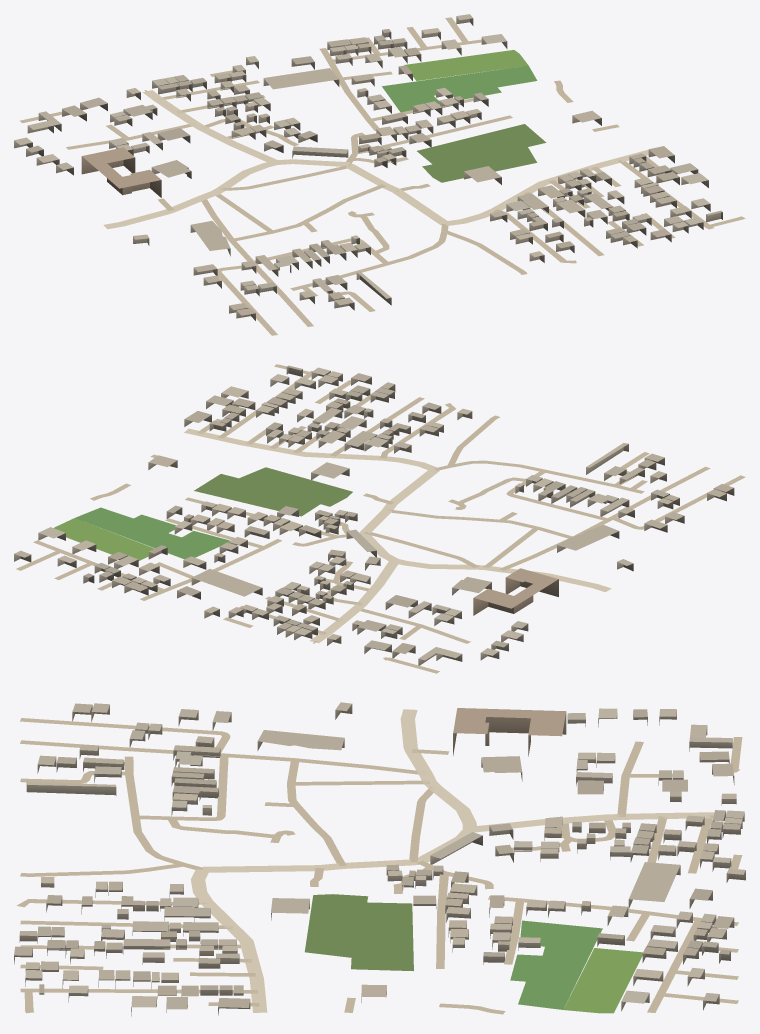
3 renders of one model, top to bottom at view 1: azimuth 30°, elevation 25°; view 2: azimuth 150°, elevation 25°; view 3: azimuth 270°, elevation 25°, orthographic. The views are drawn at different scales.
Visible parts, largest first — view 1: building, ground; view 2: building, ground; view 3: building, ground.
Part boxes in pixels (x1,y1,x2,y2): building: (14,14,722,320); ground: (19,17,745,335); building: (14,365,734,665); ground: (16,364,745,673); building: (14,702,745,1016); ground: (17,709,742,1014).
Size of the model in its own units: 509 by 18 by 510.
